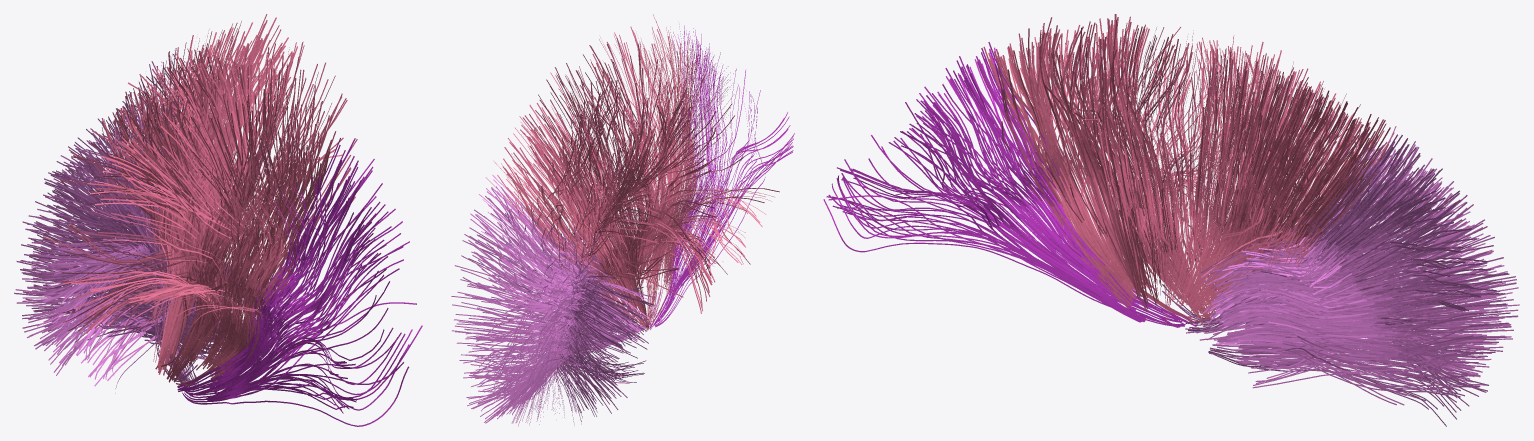
The picture shows the model from 3 angles, left to right: view 1: azimuth 30°, elevation 25°; view 2: azimuth 150°, elevation 25°; view 3: azimuth 270°, elevation 25°; orthographic projection. The views are drawn at different scales.
Parts seen in each view (by area): view 1: tracts.002, tracts, tracts.001; view 2: tracts.002, tracts, tracts.001; view 3: tracts.002, tracts, tracts.001.
Part boxes in pixels (<box>): tracts.002: <box>43,14,357,386</box>; tracts: <box>14,48,246,393</box>; tracts.001: <box>177,138,422,426</box>; tracts.002: <box>485,14,779,331</box>; tracts: <box>451,175,661,426</box>; tracts.001: <box>649,24,794,329</box>; tracts.002: <box>977,14,1394,325</box>; tracts: <box>1162,126,1519,426</box>; tracts.001: <box>823,42,1197,327</box>.
Size of the model in its own units: 60.83 by 96.07 by 151.
